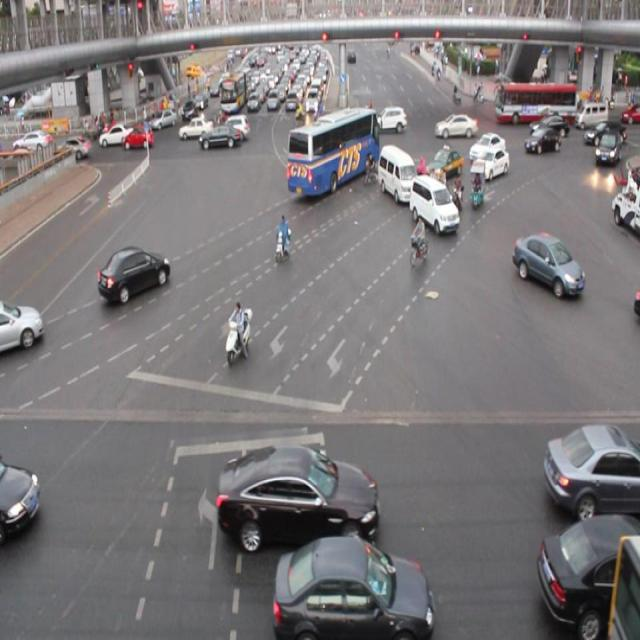car: (274, 532, 434, 640), (218, 444, 378, 547), (533, 512, 640, 631), (544, 424, 640, 513), (512, 229, 583, 298), (1, 453, 44, 552), (96, 246, 173, 300), (1, 294, 46, 357), (423, 141, 460, 179), (471, 148, 508, 180), (306, 118, 344, 149), (434, 115, 474, 141), (469, 129, 502, 159), (199, 126, 240, 150), (525, 124, 560, 152), (125, 126, 153, 149)
truck: (410, 176, 456, 231), (376, 146, 414, 202)
van: (286, 106, 376, 199), (607, 534, 639, 640)
